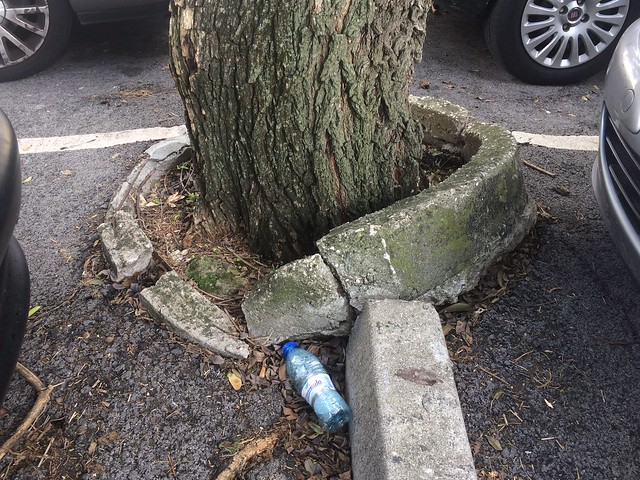bottle: (275, 335, 354, 433)
